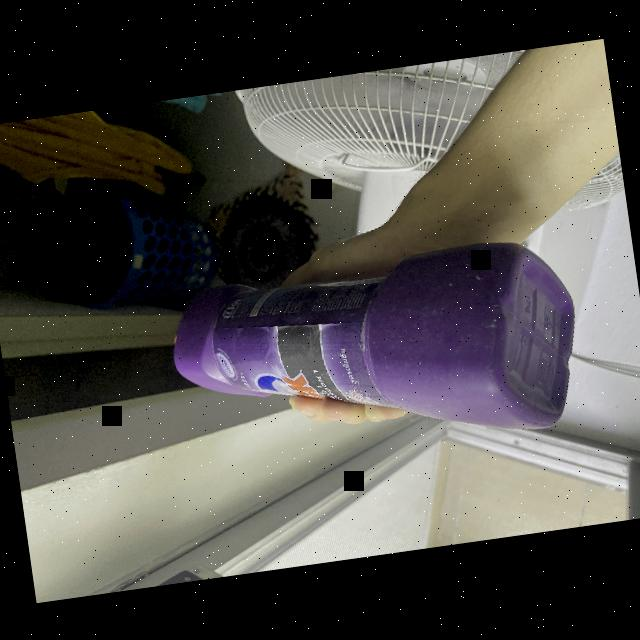chemical_plastic_bottle: (157, 224, 595, 481)
